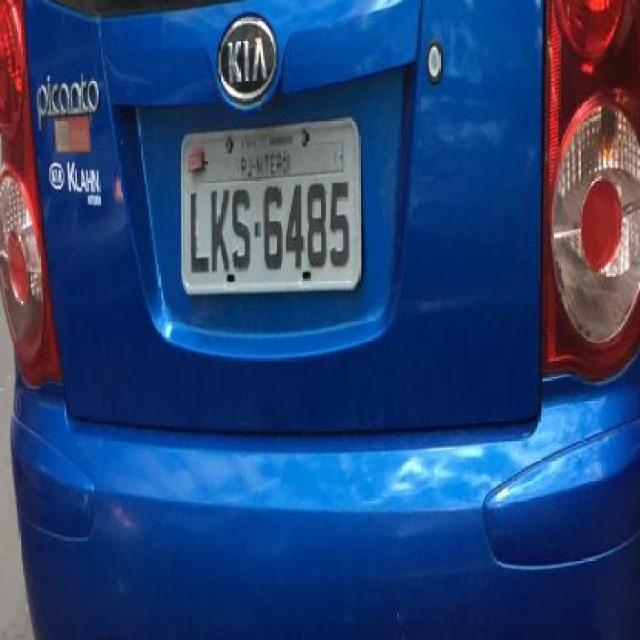old_plate: (173, 110, 368, 304)
